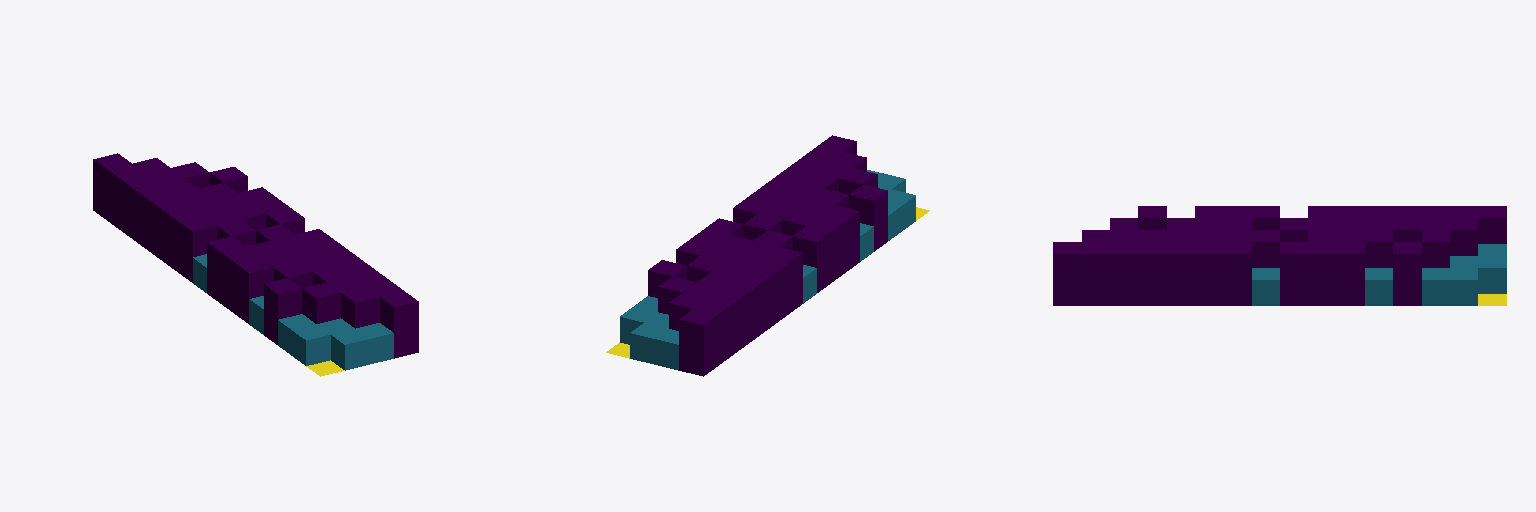
The picture shows the model from 3 angles: view 1: azimuth 30°, elevation 25°; view 2: azimuth 150°, elevation 25°; view 3: azimuth 270°, elevation 25°; orthographic projection.
Visible parts, largest first — view 1: Object(4,16)[length_2], Object(1,13)[length_2], Object(1,11)[length_2], Object(1,7)[length_2], Object(2,14)[length_2], Object(1,15)[length_1], Object(3,15)[length_2], Object(2,16)[length_1], Object(1,6)[length_2], Object(1,1)[length_2], Object(1,3)[length_2], Object(1,4)[length_2] (+12 smaller); view 2: Object(1,1)[length_2], Object(1,13)[length_2], Object(1,9)[length_2], Object(1,11)[length_2], Object(1,5)[length_2], Object(1,4)[length_2], Object(1,2)[length_2], Object(1,7)[length_2], Object(1,10)[length_2], Object(1,6)[length_2], Object(1,3)[length_2], Object(3,1)[length_1] (+12 smaller); view 3: Object(4,4)[length_2], Object(4,7)[length_2], Object(4,10)[length_2], Object(4,13)[length_2], Object(4,16)[length_2], Object(4,6)[length_2], Object(4,8)[length_2], Object(4,11)[length_2], Object(4,12)[length_2], Object(4,14)[length_2], Object(4,15)[length_2], Object(1,1)[length_2] (+13 smaller).
Part boxes in pixels (x1,y1,x2,y2): Object(4,16)[length_2]: (380, 291, 418, 358); Object(1,13)[length_2]: (264, 278, 301, 344); Object(1,11)[length_2]: (235, 257, 273, 323); Object(1,7)[length_2]: (179, 216, 216, 282); Object(2,14)[length_2]: (302, 282, 340, 323); Object(1,15)[length_1]: (292, 324, 330, 365); Object(3,15)[length_2]: (341, 287, 379, 328); Object(2,16)[length_1]: (331, 329, 368, 370); Object(1,6)[length_2]: (164, 205, 202, 272); Object(1,1)[length_2]: (93, 153, 131, 220); Object(1,3)[length_2]: (122, 174, 159, 240); Object(1,4)[length_2]: (136, 184, 173, 251); Object(1,1)[length_2]: (679, 309, 717, 376); Object(1,13)[length_2]: (849, 184, 887, 251); Object(1,9)[length_2]: (793, 226, 830, 292); Object(1,11)[length_2]: (821, 205, 859, 272); Object(1,5)[length_2]: (736, 268, 774, 334); Object(1,4)[length_2]: (723, 278, 759, 344); Object(1,2)[length_2]: (694, 299, 731, 365); Object(1,7)[length_2]: (765, 247, 802, 313); Object(1,10)[length_2]: (807, 216, 844, 282); Object(1,6)[length_2]: (750, 257, 788, 323); Object(1,3)[length_2]: (708, 288, 745, 355); Object(3,1)[length_1]: (630, 323, 667, 364); Object(4,4)[length_2]: (1393, 242, 1421, 305); Object(4,7)[length_2]: (1308, 242, 1336, 305); Object(4,10)[length_2]: (1223, 242, 1251, 305); Object(4,13)[length_2]: (1138, 242, 1166, 305); Object(4,16)[length_2]: (1053, 242, 1081, 305); Object(4,6)[length_2]: (1337, 242, 1364, 305); Object(4,8)[length_2]: (1280, 242, 1307, 305); Object(4,11)[length_2]: (1195, 242, 1222, 305); Object(4,12)[length_2]: (1167, 242, 1194, 305); Object(4,14)[length_2]: (1110, 242, 1137, 305); Object(4,15)[length_2]: (1082, 242, 1109, 305); Object(1,1)[length_2]: (1478, 206, 1506, 243).
Bounding box in the file's own units: 4 × 2 × 16.